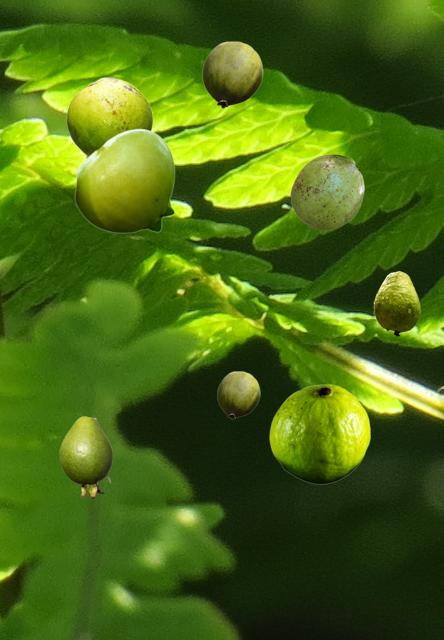guava: (74, 128, 174, 232), (269, 384, 369, 483), (66, 77, 152, 156), (290, 154, 363, 229), (59, 416, 111, 497), (202, 41, 262, 107), (373, 271, 419, 335), (217, 371, 259, 418)
